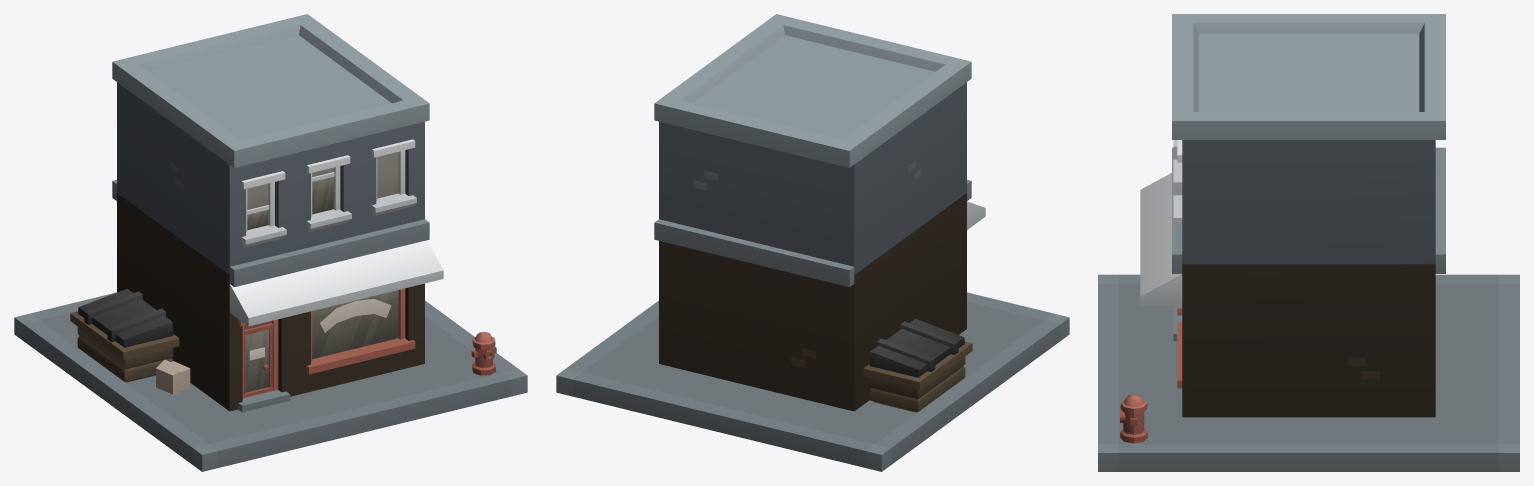
Rendered from london-shop.glb.
3 renders of one model, left to right at view 1: azimuth 30°, elevation 25°; view 2: azimuth 150°, elevation 25°; view 3: azimuth 270°, elevation 25°, orthographic. The views are drawn at different scales.
Visible parts, largest first — view 1: building_A; view 2: building_A; view 3: building_A.
Part boxes in pixels (<box>): building_A: <box>14,14,527,471</box>; building_A: <box>556,14,1069,471</box>; building_A: <box>1098,14,1519,471</box>.
Bounding box in the file's own units: 2 × 1.65 × 2.
Materials: 2 (2 with a texture image).
